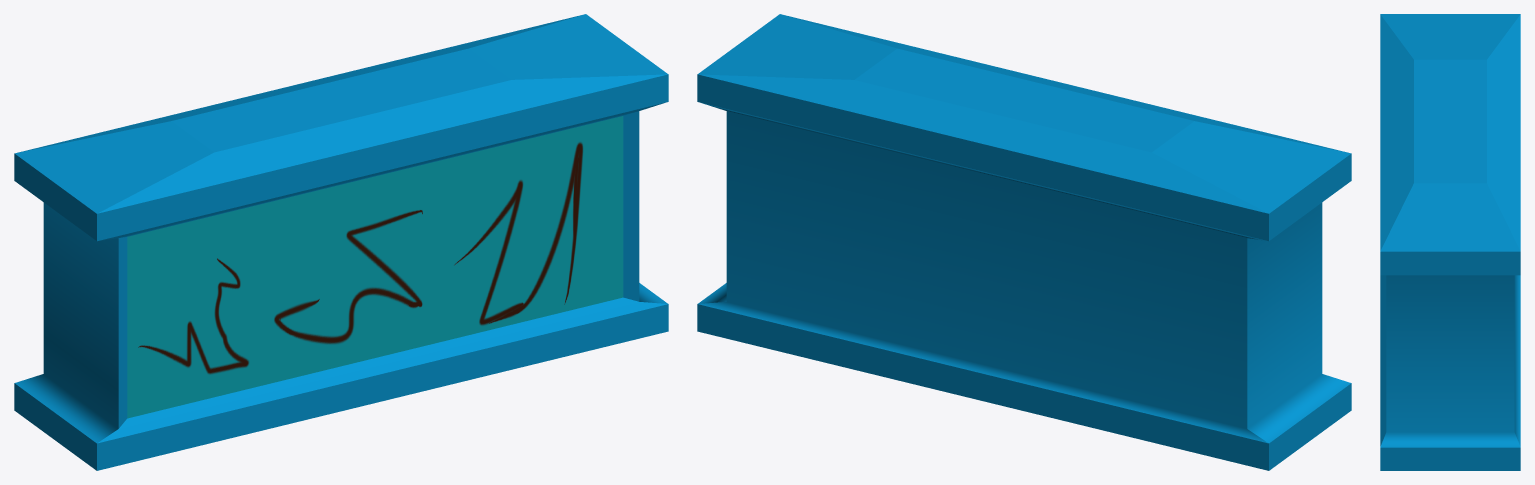
File: Perfect Seal.fbx
The picture shows the model from 3 angles, left to right: view 1: azimuth 30°, elevation 25°; view 2: azimuth 150°, elevation 25°; view 3: azimuth 270°, elevation 25°; orthographic projection. The views are drawn at different scales.
Parts seen in each view (by area): view 1: pCube1; view 2: pCube1; view 3: pCube1.
Part boxes in pixels (<box>): pCube1: <box>14,14,668,470</box>; pCube1: <box>697,14,1351,470</box>; pCube1: <box>1380,14,1520,470</box>.
Size of the model in its own units: 21.95 by 10.42 by 5.49.
Materials: 2 (2 with a texture image).
